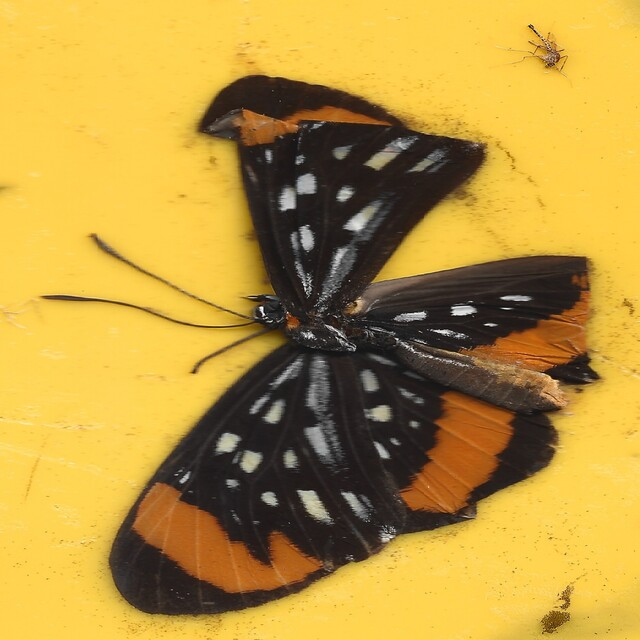Lepidoptera: (38, 74, 602, 616)
Nematocera: (522, 24, 564, 71)
